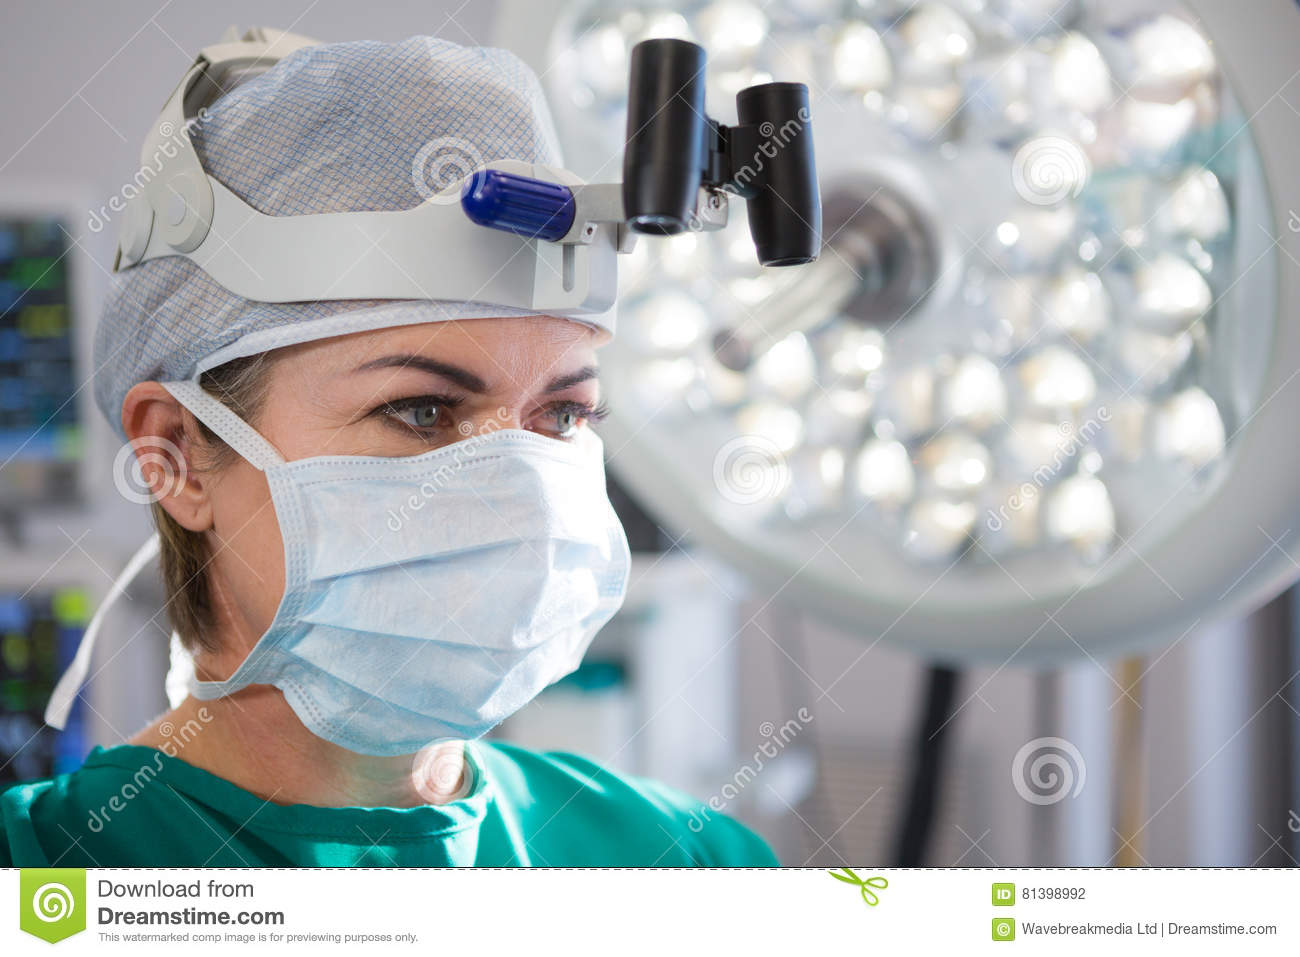mask: (245, 435, 657, 763)
